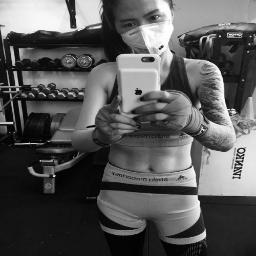correctlyWear: (116, 7, 174, 55)
